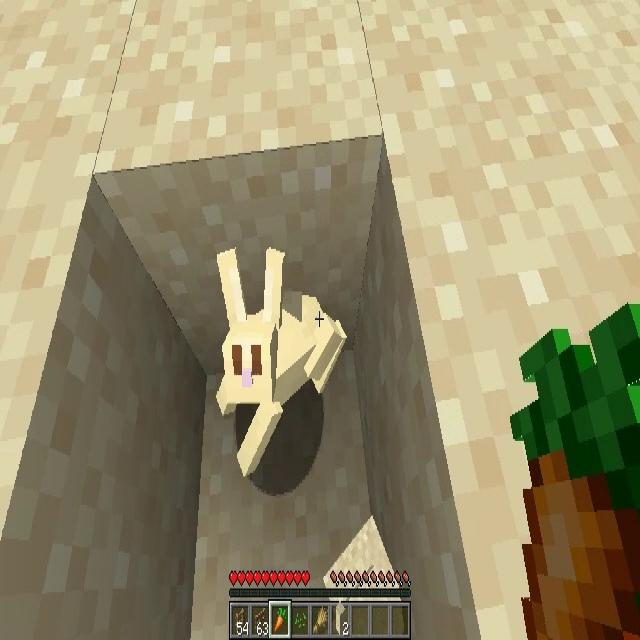rabbit: (217, 250, 347, 458)
